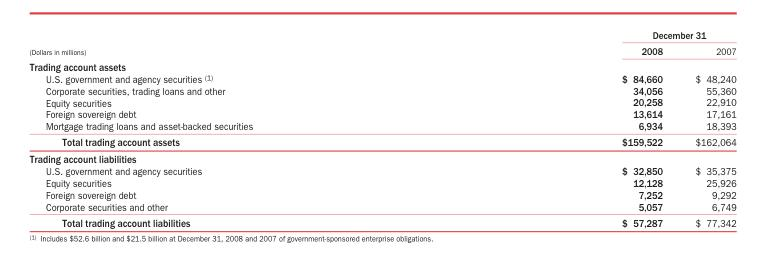table: (28, 28, 735, 228)
table column: (28, 28, 436, 228), (436, 28, 678, 228), (678, 28, 735, 228)
table column header: (28, 28, 735, 58)
table projected row header: (28, 58, 735, 72), (28, 150, 735, 164)
table row: (28, 133, 735, 150), (28, 42, 735, 58), (28, 28, 735, 42), (28, 58, 735, 72), (28, 119, 735, 133), (28, 150, 735, 164), (28, 200, 735, 214), (28, 214, 735, 228), (28, 72, 735, 84), (28, 84, 735, 96), (28, 96, 735, 108), (28, 164, 735, 176), (28, 176, 735, 188), (28, 188, 735, 200), (28, 108, 735, 119)
table spanning cell: (28, 28, 436, 58), (436, 28, 735, 42)
